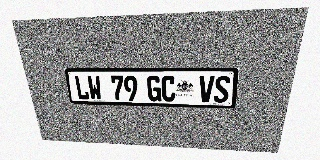7: (110, 76, 125, 101)
9: (123, 76, 138, 101)
C: (161, 76, 175, 102)
G: (147, 76, 161, 101)
L: (74, 75, 90, 100)
S: (213, 76, 231, 103)
V: (198, 76, 215, 102)
W: (87, 75, 102, 100)
